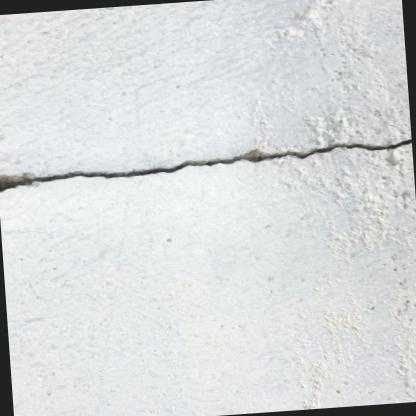crack: (0, 137, 412, 192)
